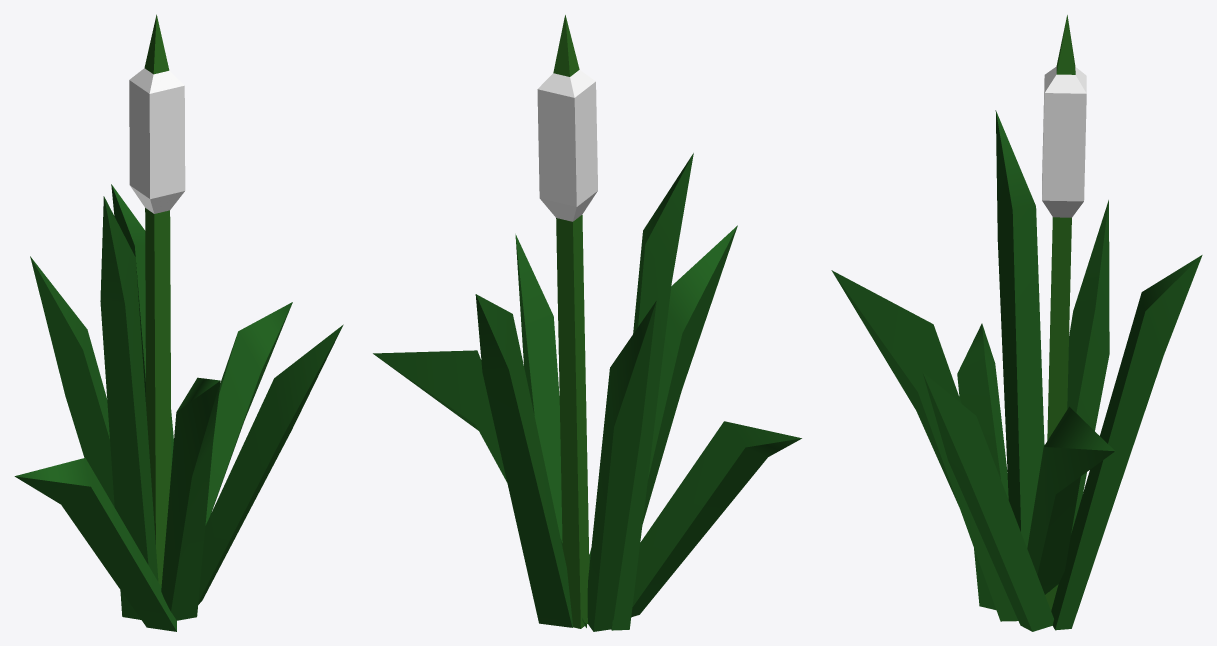
Rendered from Tallgrass FBX.fbx.
The picture shows the model from 3 angles, left to right: view 1: azimuth 30°, elevation 25°; view 2: azimuth 150°, elevation 25°; view 3: azimuth 270°, elevation 25°; orthographic projection. The views are drawn at different scales.
Parts seen in each view (by area): view 1: Tallgrass, Reed; view 2: Tallgrass, Reed; view 3: Tallgrass, Reed.
Boxes of the visible parts, <box> form: Tallgrass: <box>14,184,343,631</box>; Reed: <box>129,14,185,587</box>; Tallgrass: <box>373,153,801,631</box>; Reed: <box>537,15,597,628</box>; Tallgrass: <box>831,110,1202,631</box>; Reed: <box>1042,15,1086,610</box>.
Bounding box in the file's own units: 83.19 × 135 × 75.16.
